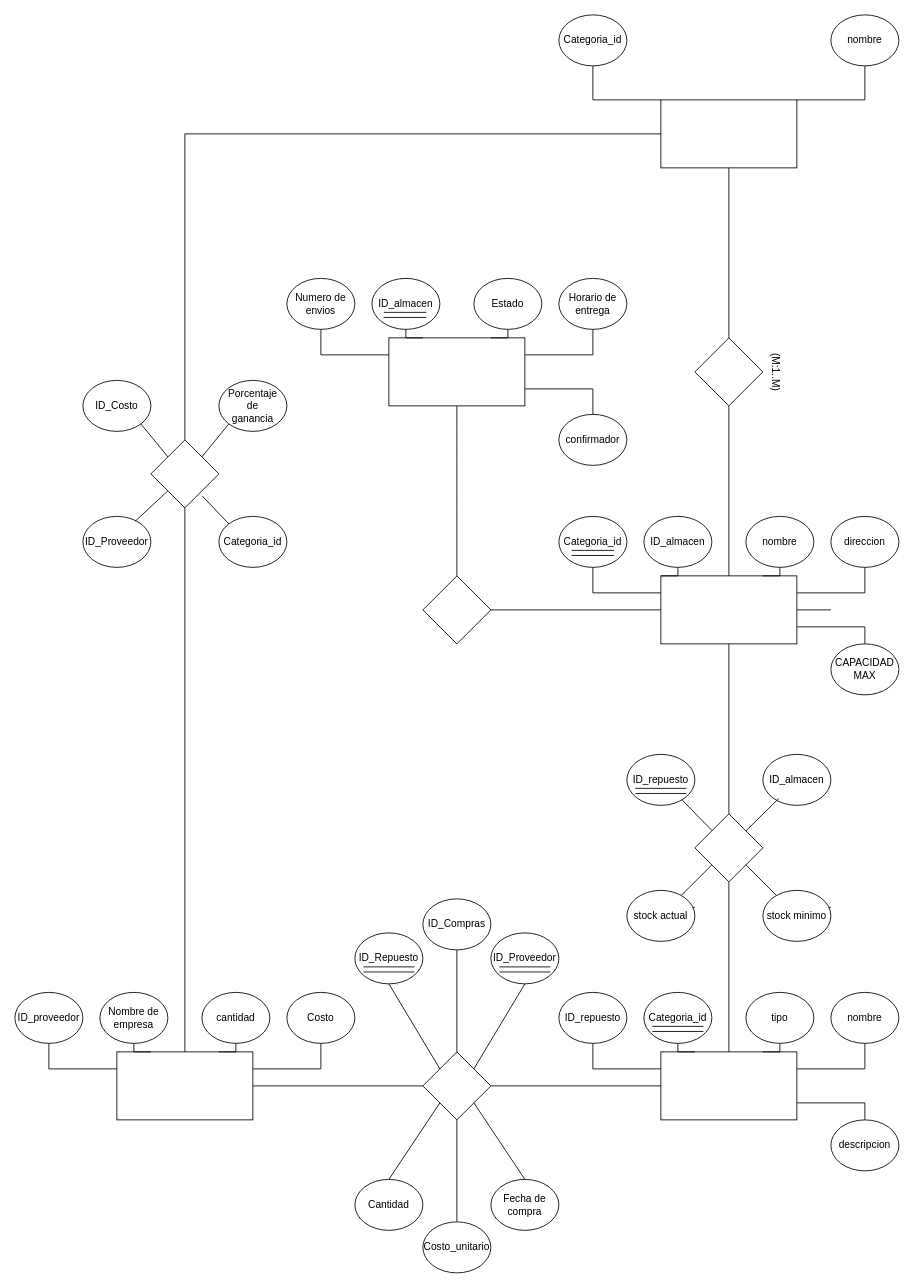
The diagram is 914 pixels wide and 1288 high, and some of its shapes have lost their labels. The centre of each missing label's shape, as x and y in pixels:
Almacen: the point at 728,609
Categoria: the point at 728,133
Compras proveedor: the point at 456,1085
Costos: the point at 184,473
Envio: the point at 456,371
Provedorees: the point at 184,1085
Repuestos: the point at 728,1085
Stock de repuestos: the point at 728,847
